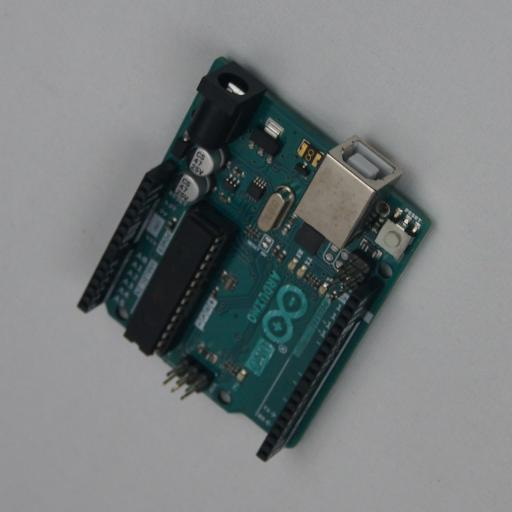Arduino Uno -Green-: (78, 56, 432, 462)
